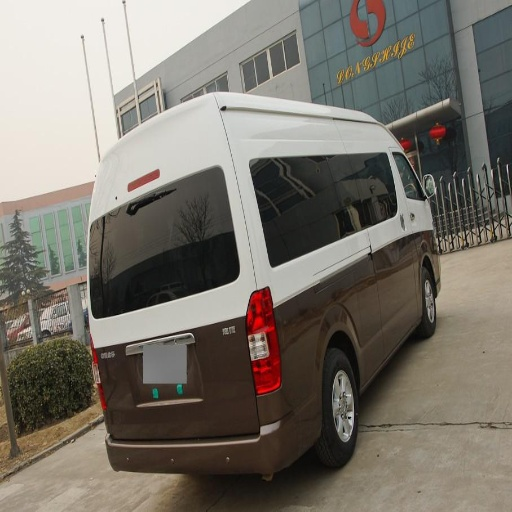back_bumper: (104, 353, 317, 473)
back_glass: (97, 218, 237, 313), (265, 197, 350, 258)
back_right_door: (352, 280, 382, 359)
back_right_light: (247, 288, 279, 394)
tailgate: (89, 281, 234, 410)
trunk: (101, 287, 265, 434), (252, 119, 368, 176)
